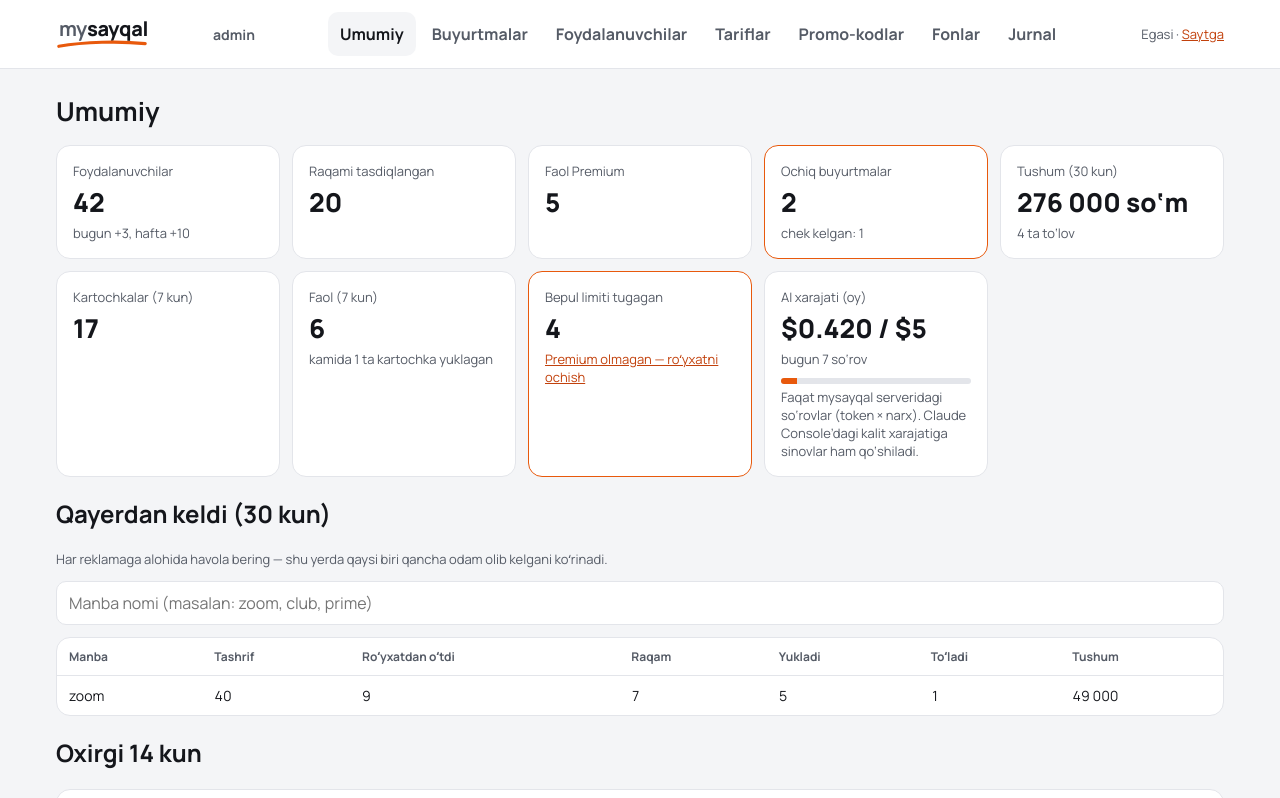
admin panel › umumiy statistika
The image size is (1280, 798).
Expected: the text "276 000 so‘m" is shown, 1017,184 -> 1207,220
Expected: the row "zoom 40 9 7 5 1 49 000" is shown, 57,675 -> 1223,715
Step 1. Type "Club" into the field labelled "Manba nomi (masalan: zoom, club, prime)" → {"x": 640, "y": 603}, box 56,581 -> 1224,625
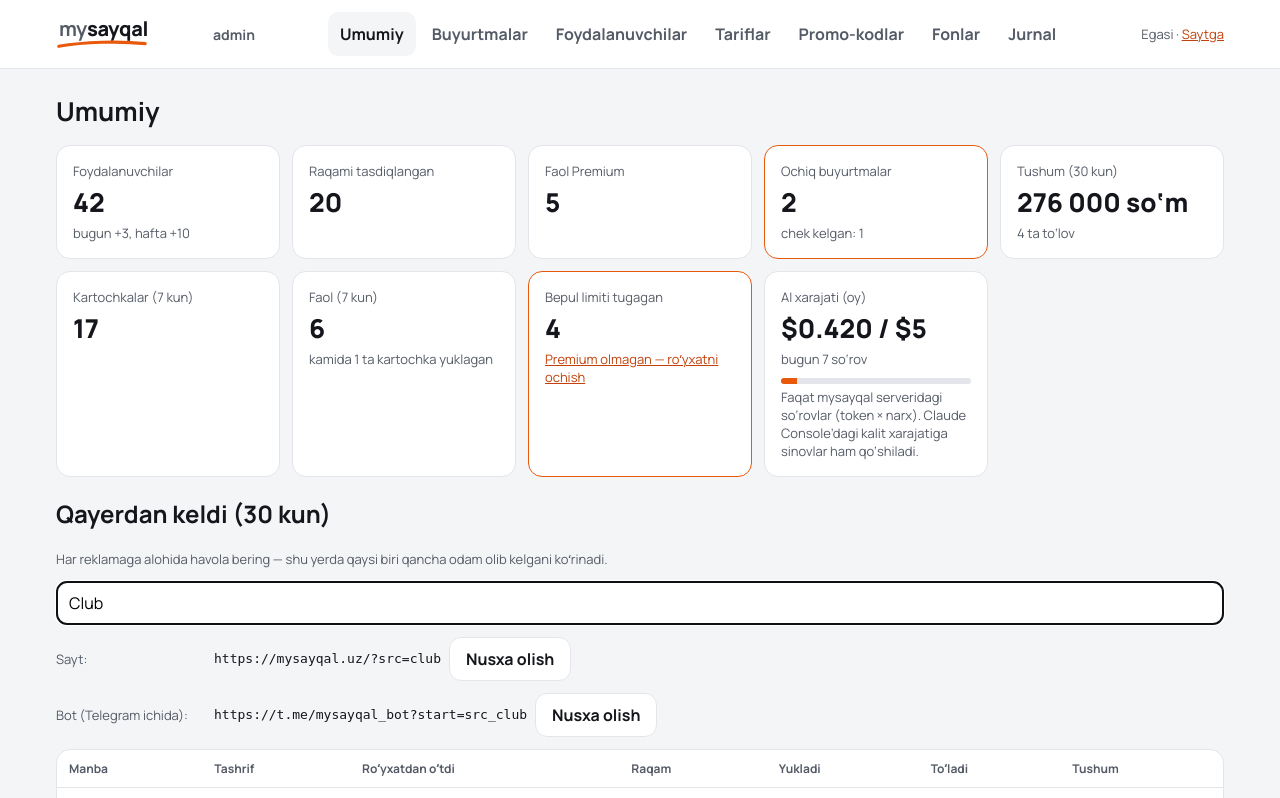
Expected: the text "$0.420 / $5" is shown, 781,310 -> 927,346
Expected: the text with test id "src-link-site" reads "https://mysayqal.uz/?src=club", 214,651 -> 441,666
Expected: the text with test id "src-link-bot" reads "https://t.me/mysayqal_bot?start=src_club", 214,707 -> 527,722
